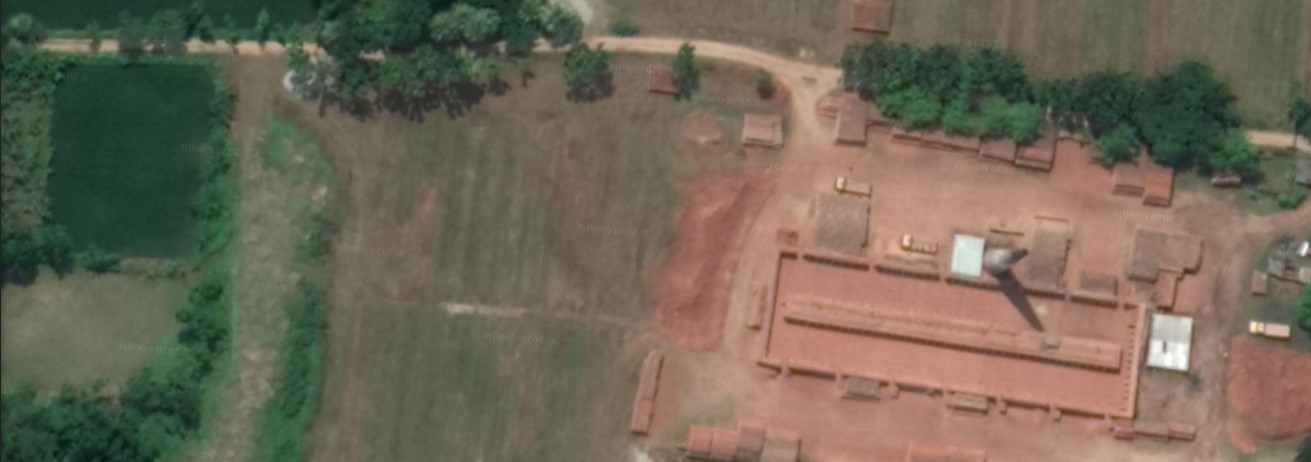kiln: (743, 219, 1163, 413)
